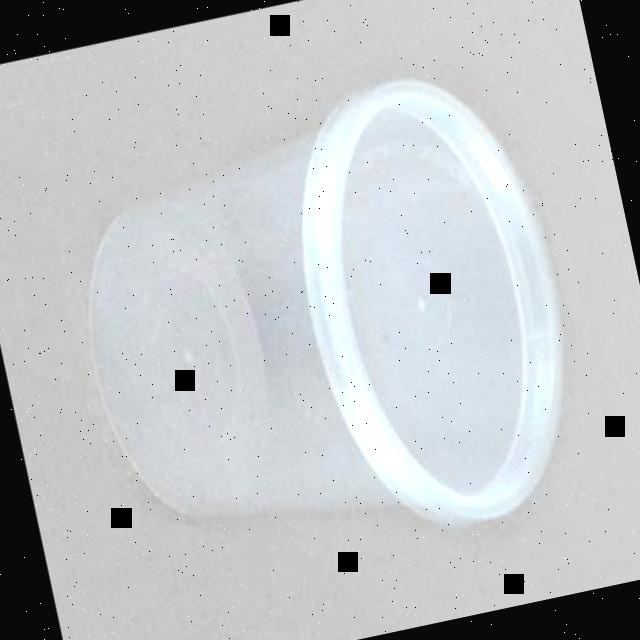plastic_box: (42, 54, 598, 590)
